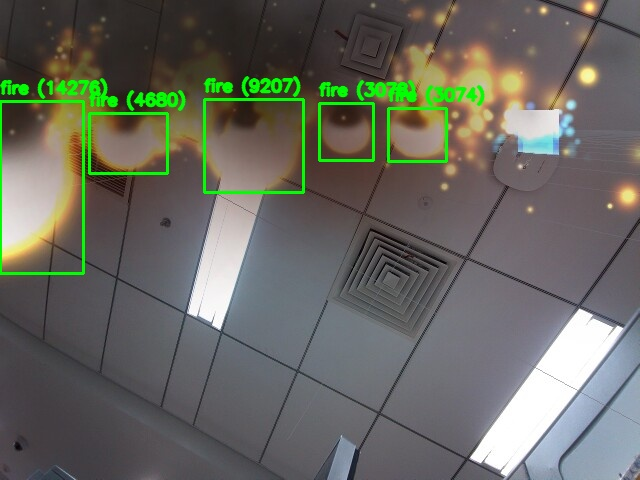fire: (0, 101, 83, 273), (204, 99, 303, 192), (89, 113, 167, 173), (319, 103, 373, 160), (388, 108, 446, 161)
